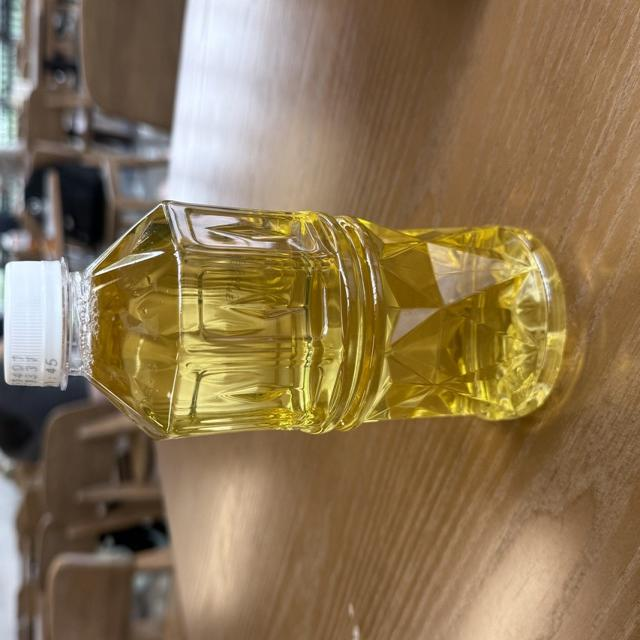high: (3, 201, 565, 438)
